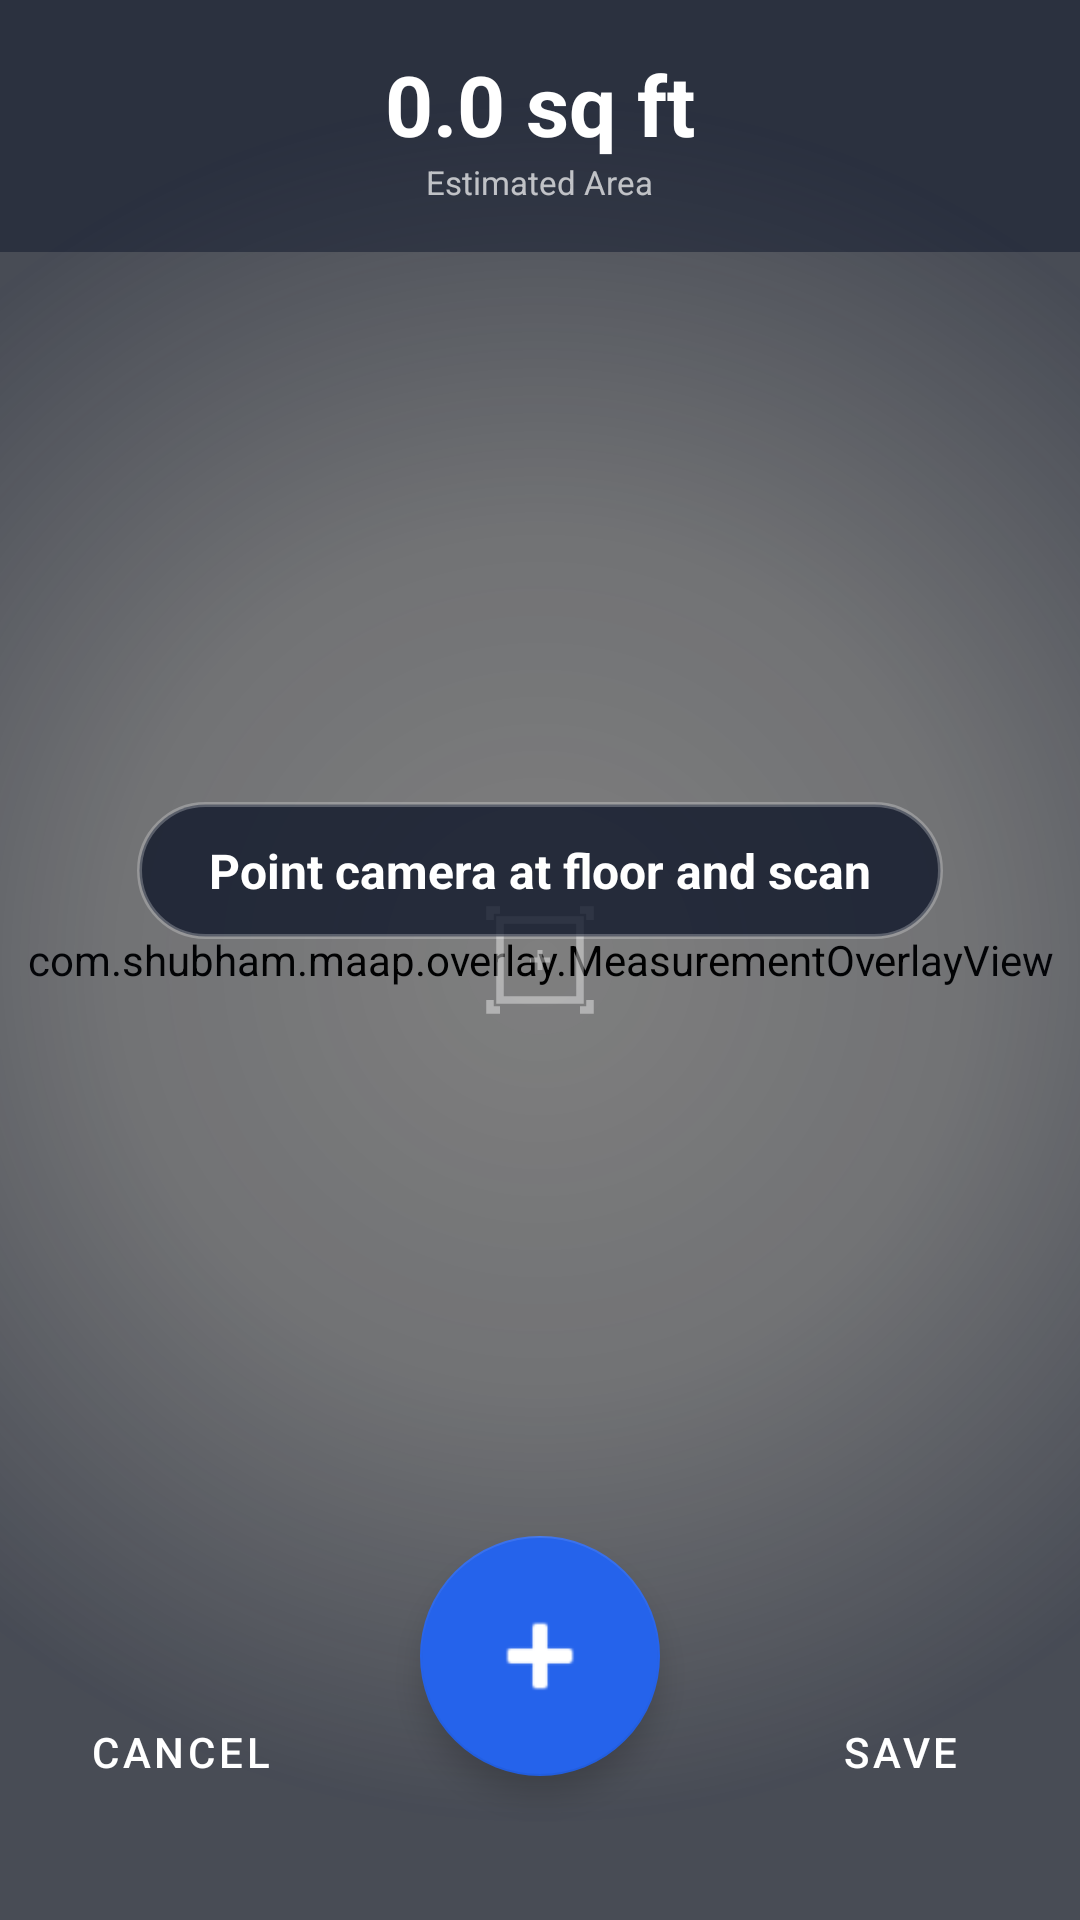

Icons on this 1080x1920 Android screen, each with the point to tap as (x,y):
Add current point as a corner: (540,1656)
